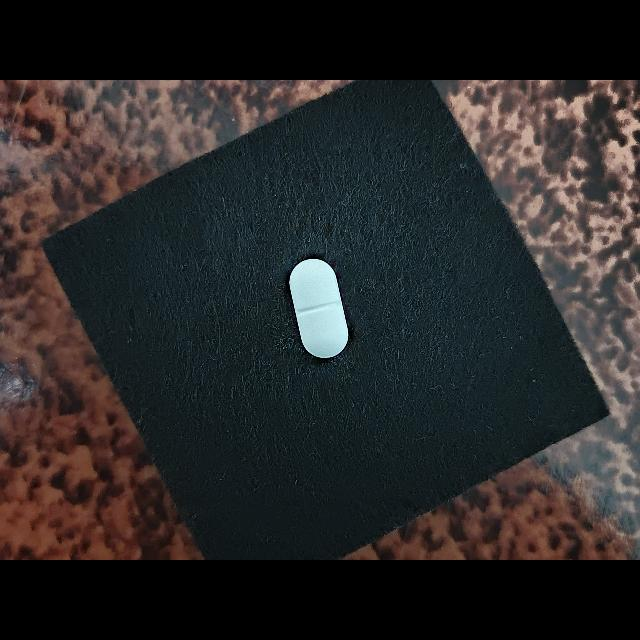Intact Pill: (289, 259, 349, 358)
